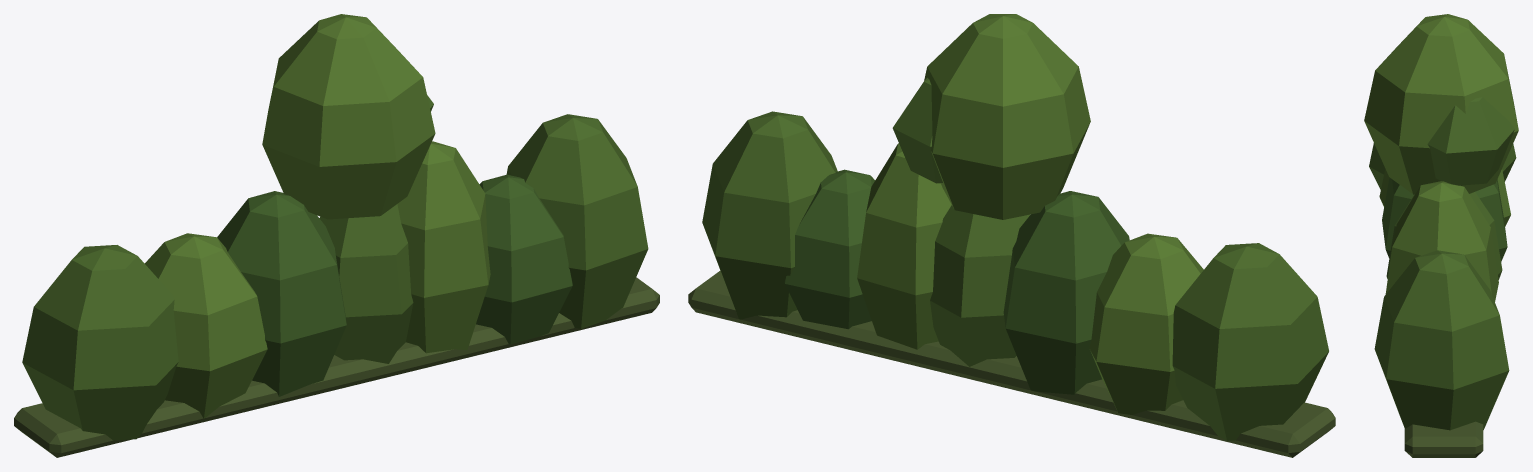
The model's file is land_hedgerow_b.glb.
3 renders of one model, left to right at view 1: azimuth 30°, elevation 25°; view 2: azimuth 150°, elevation 25°; view 3: azimuth 270°, elevation 25°, orthographic. The views are drawn at different scales.
Visible parts, largest first — view 1: land_hedgerow_b; view 2: land_hedgerow_b; view 3: land_hedgerow_b.
Part boxes in pixels (<box>): land_hedgerow_b: <box>14,14,659,457</box>; land_hedgerow_b: <box>688,14,1335,457</box>; land_hedgerow_b: <box>1364,14,1518,457</box>.
Size of the model in its own units: 8 by 4.42 by 1.97.
